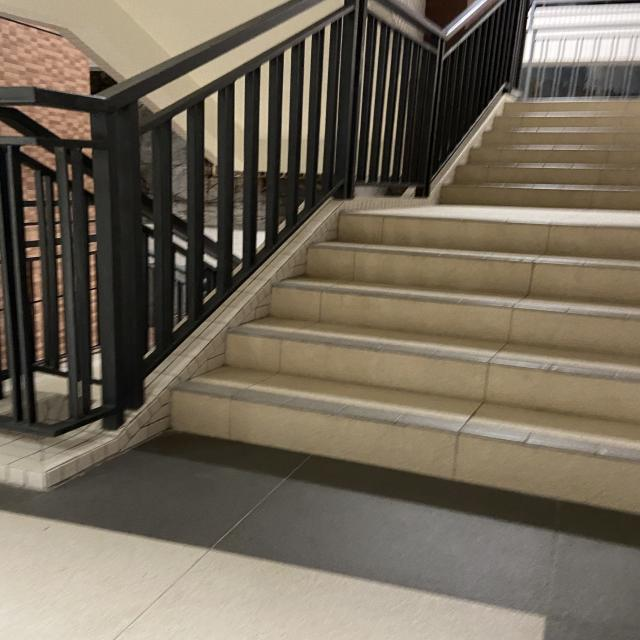Stairs: (157, 186, 640, 520), (445, 83, 640, 223)
